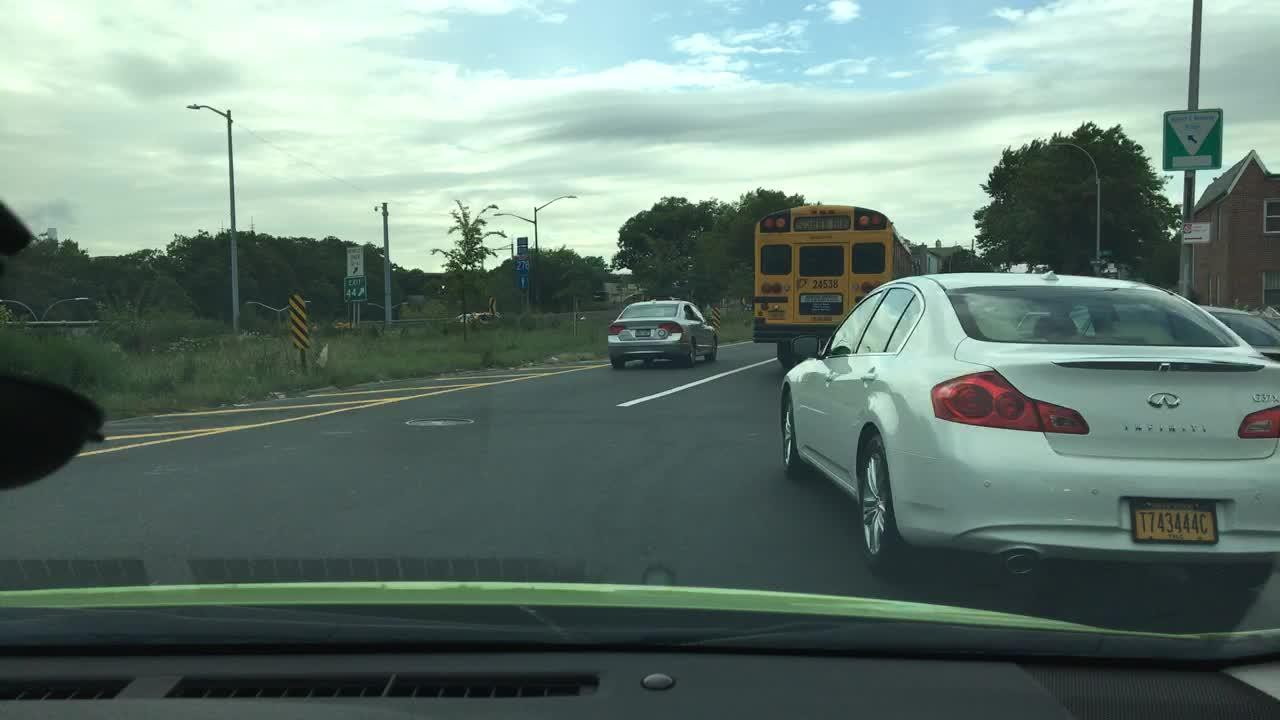Infiniti: (1146, 387, 1184, 415)
